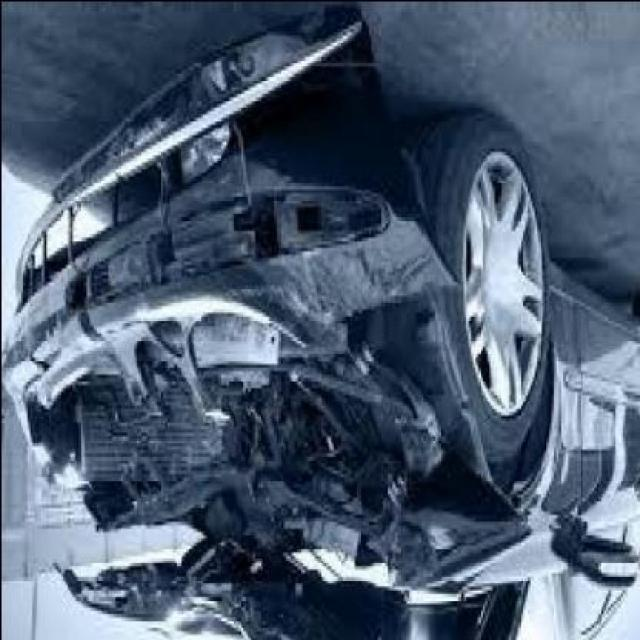damage: (3, 0, 520, 636)
